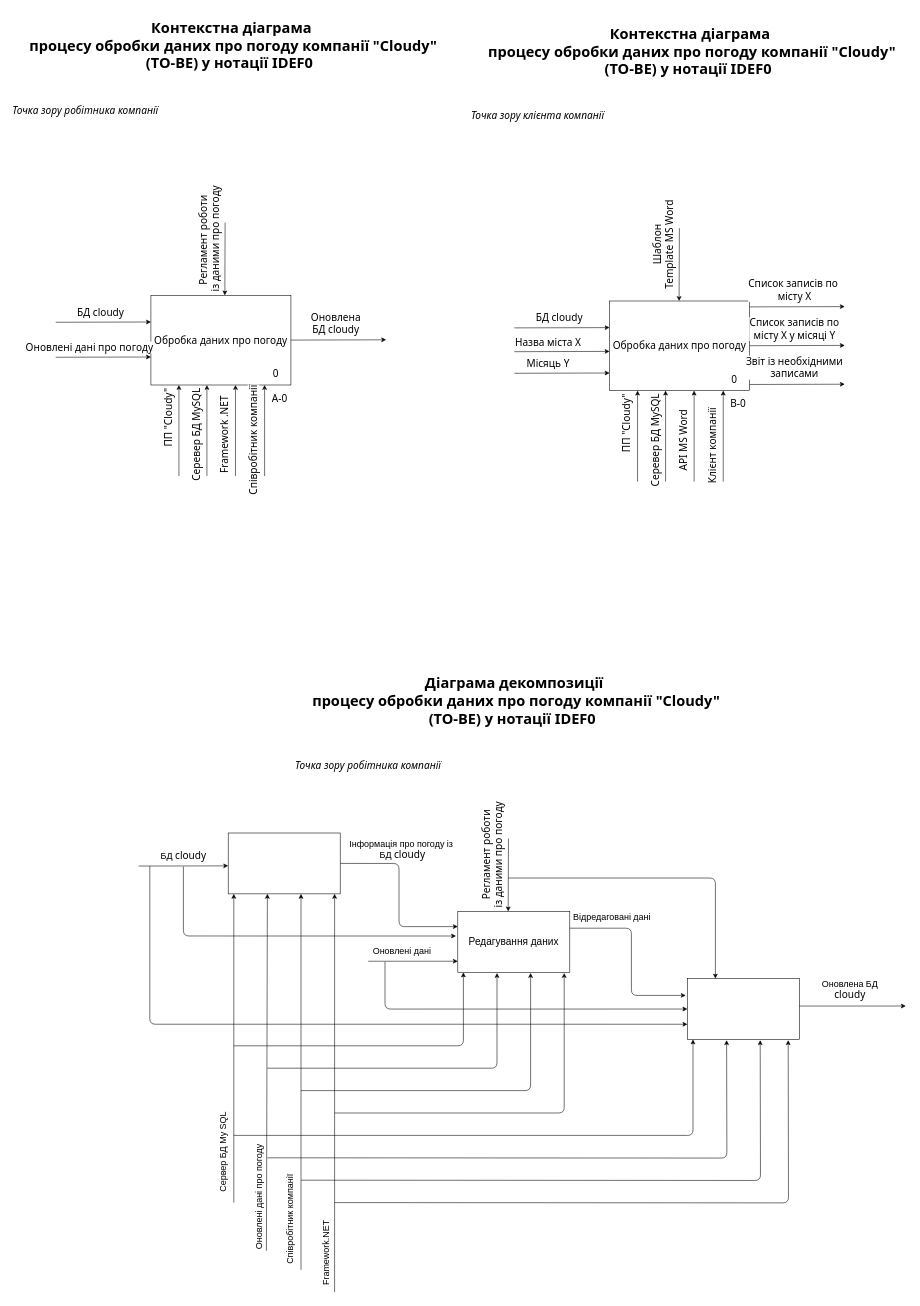
This 920x1306 diagram has some shape labels left out. Here are the shapes that lost their labels. From the top down, the centre of each, then its label:
At point (284, 863): "Перегляд даних".
At point (743, 1008): "Додавання даних".
